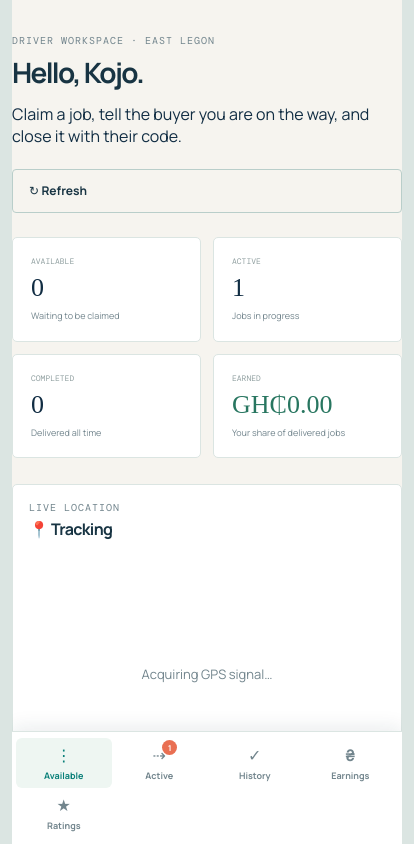
Test: claiming and progressing a job › shows enter delivery code button for En Route jobs in Active tab
Click the button "⇢ Active 1" at (159, 763), box [112,738,207,788]
(page scrolled)
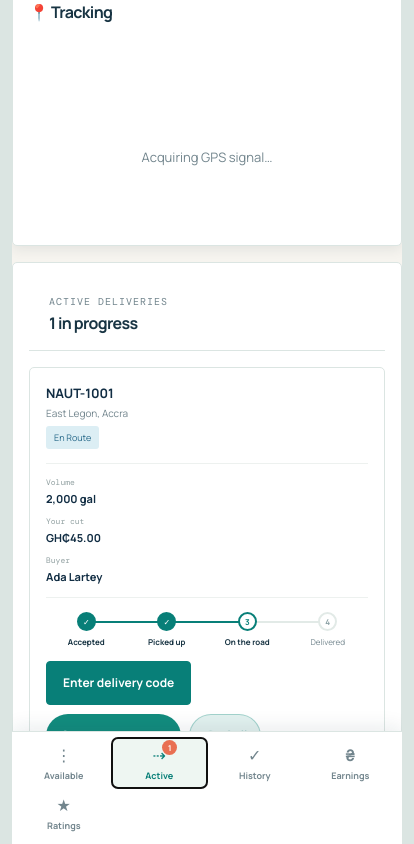
Check: the button "Enter delivery code" is shown, box [46,661,191,705]
